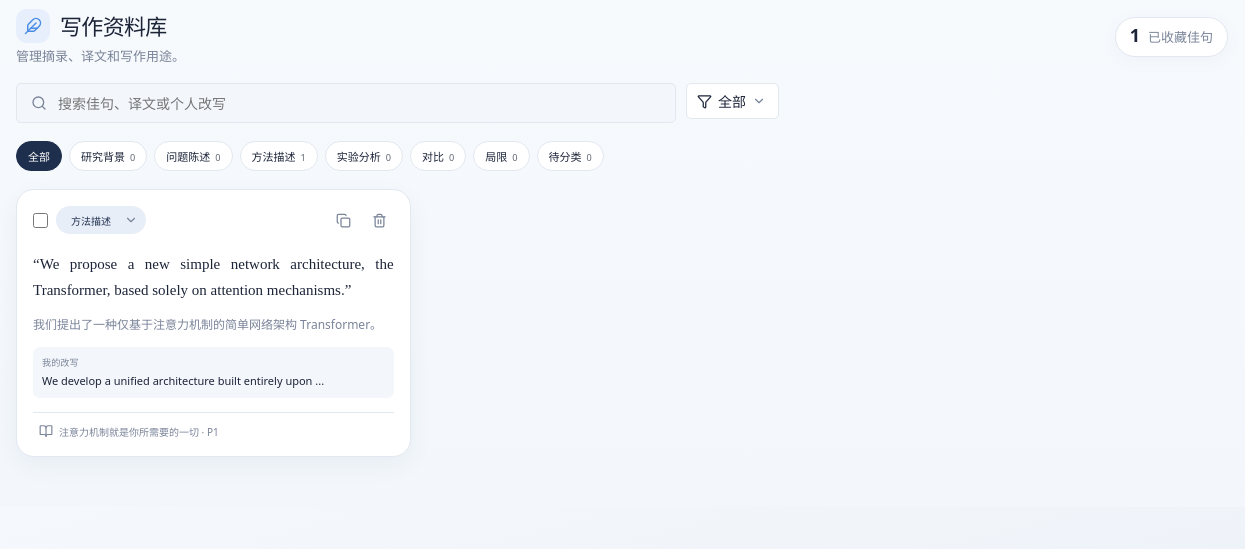
Test: writing library errors › shows an error when changing the writing purpose fails
Click the button "方法描述" at (101, 220), box [56, 206, 146, 234]
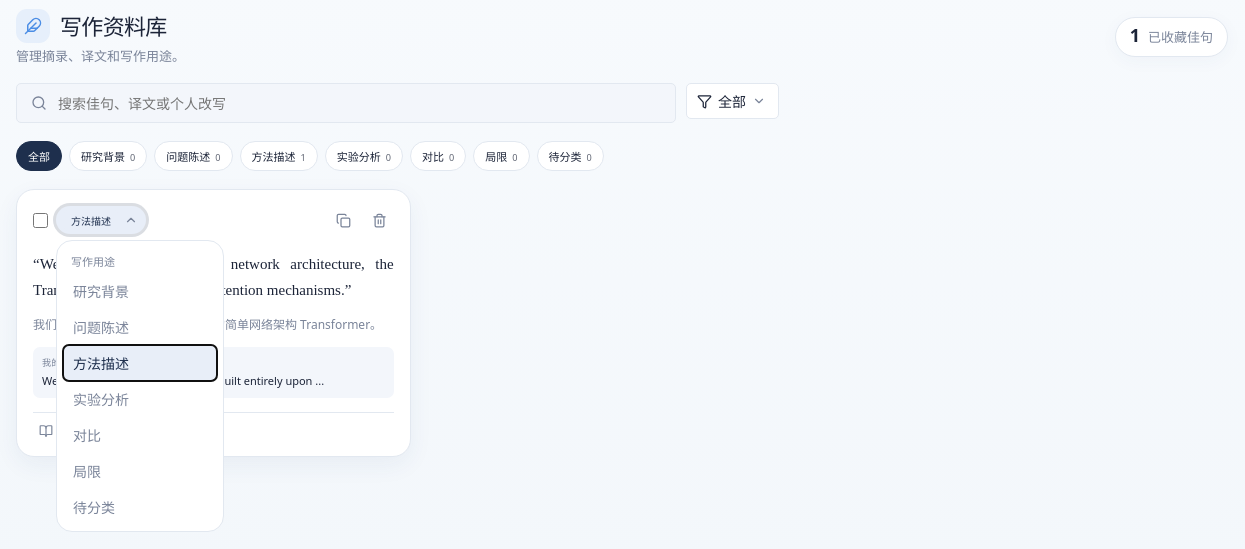
Click the option "实验分析" at (140, 399), box [63, 381, 217, 417]
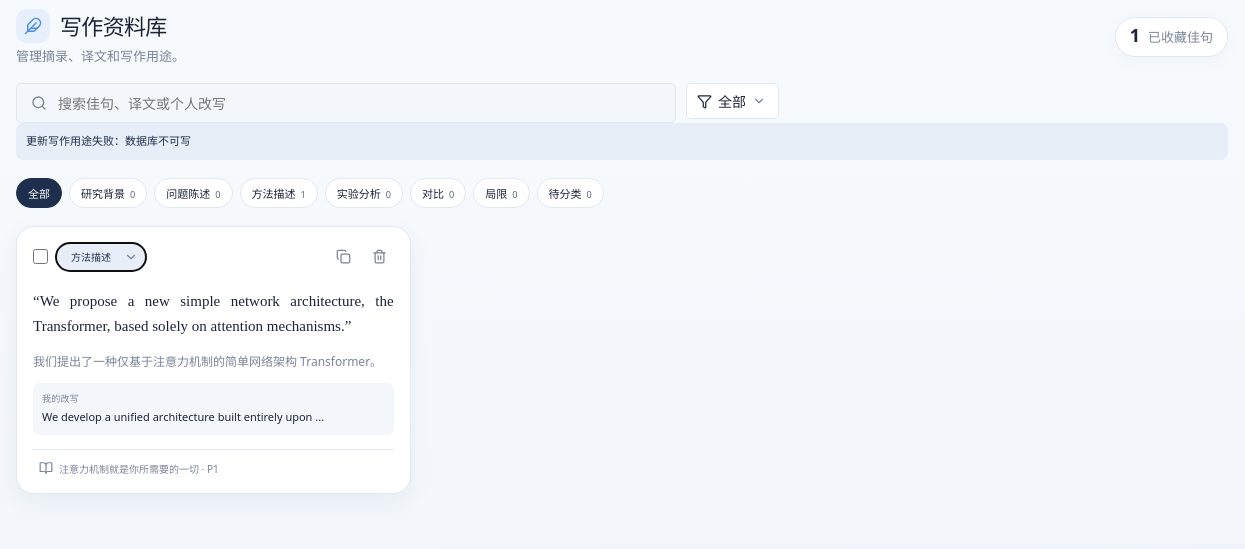
Expected: the message reads "更新写作用途失败：数据库不可写", [26, 133, 191, 148]
